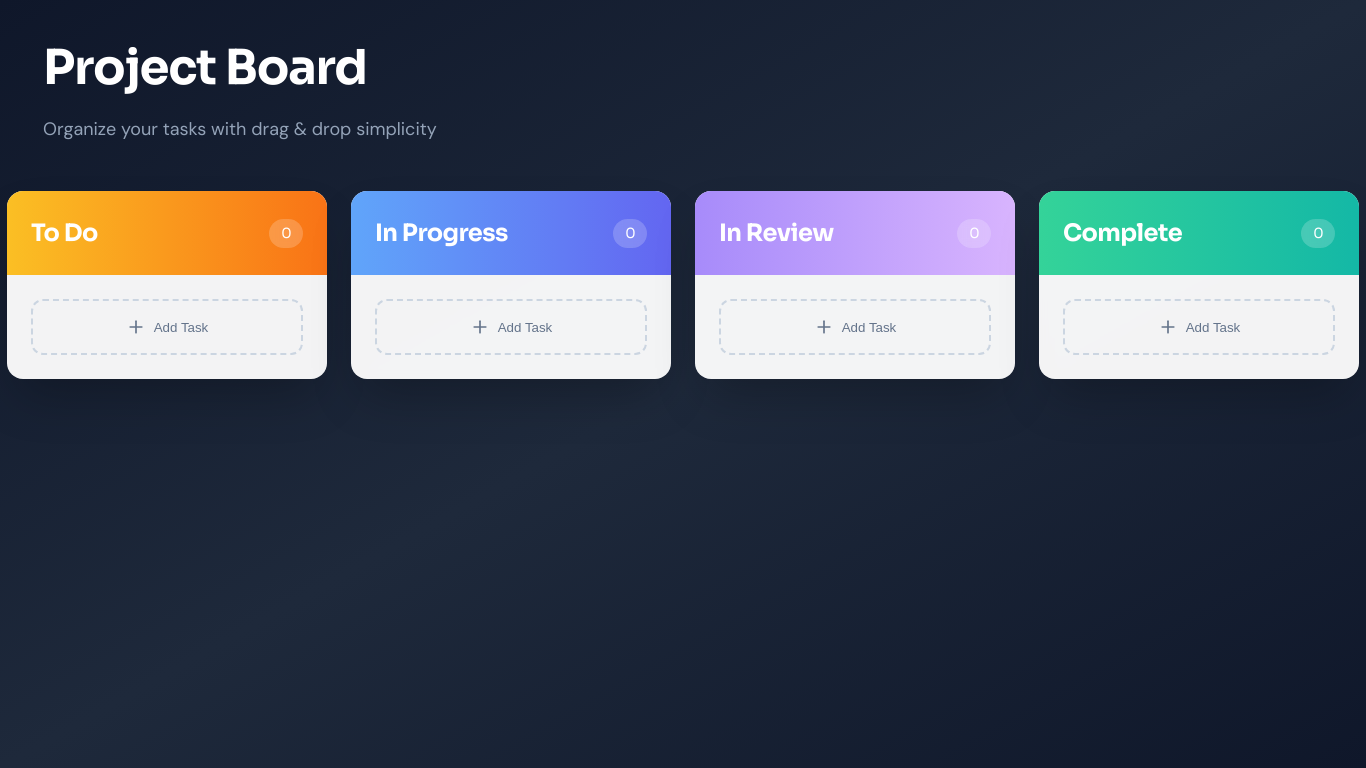
Scenario: App › Adding Tasks › can add multiple tasks
Note: Add first task
Click the button "Add Task" below "To Do" at x=167, y=327, box [31,299,303,355]
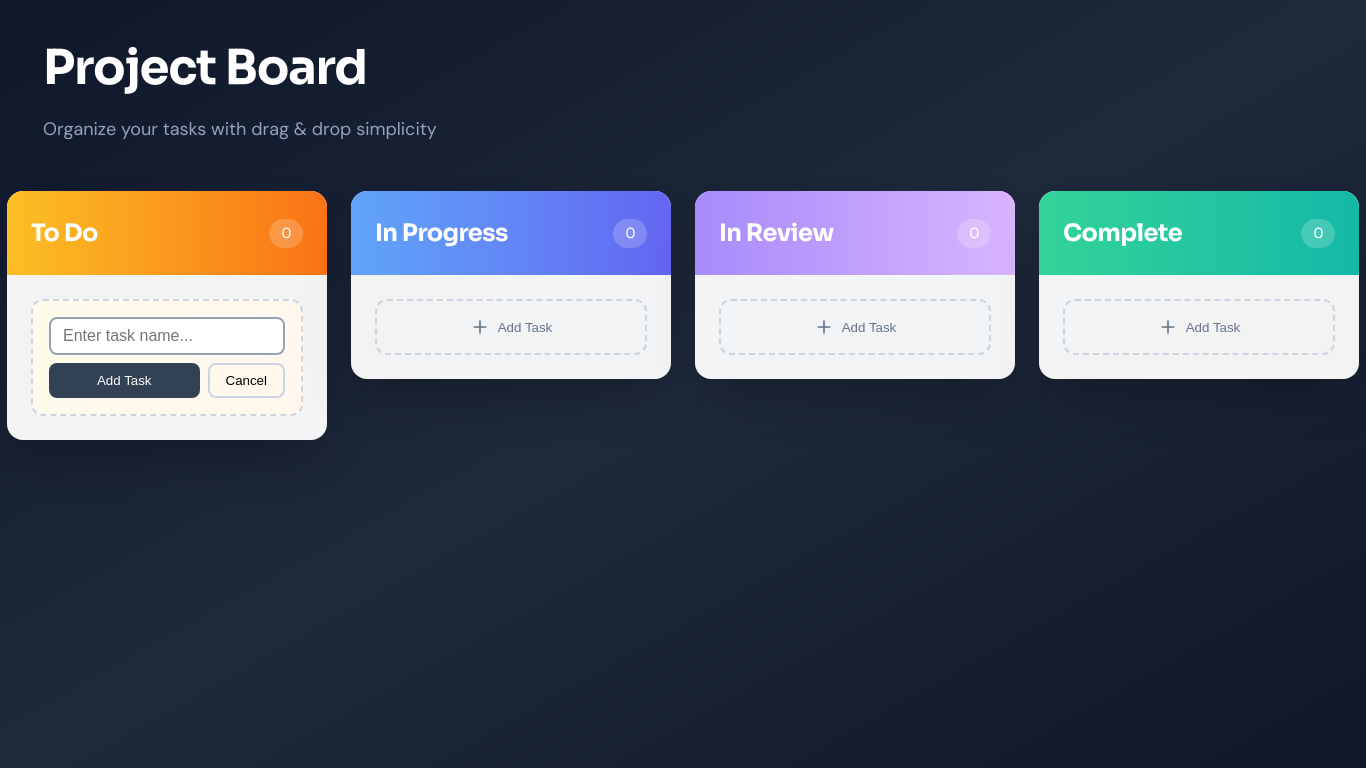
Type "Task 1" into the field with placeholder "Enter task name..." at x=167, y=336, box [49,317,285,355]
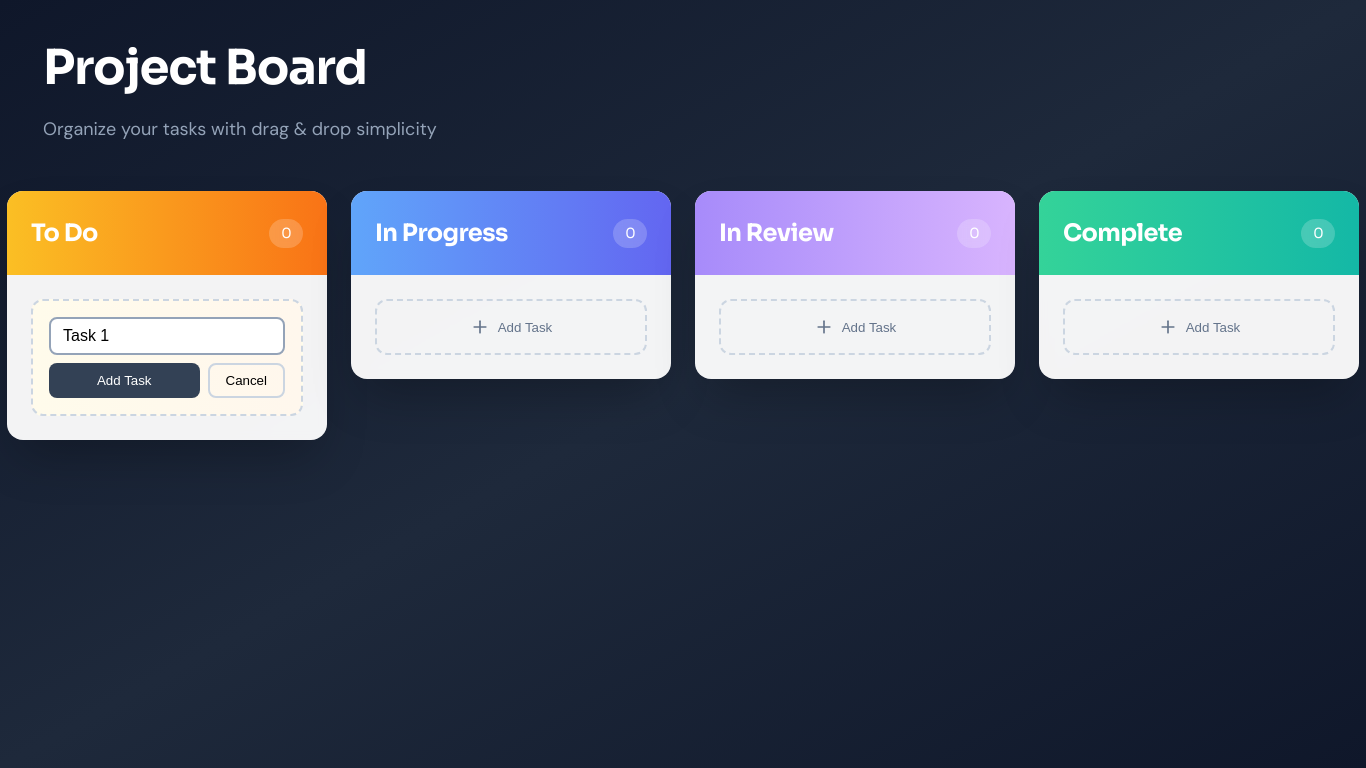
Press Enter in the field with placeholder "Enter task name...", box [49,317,285,355]
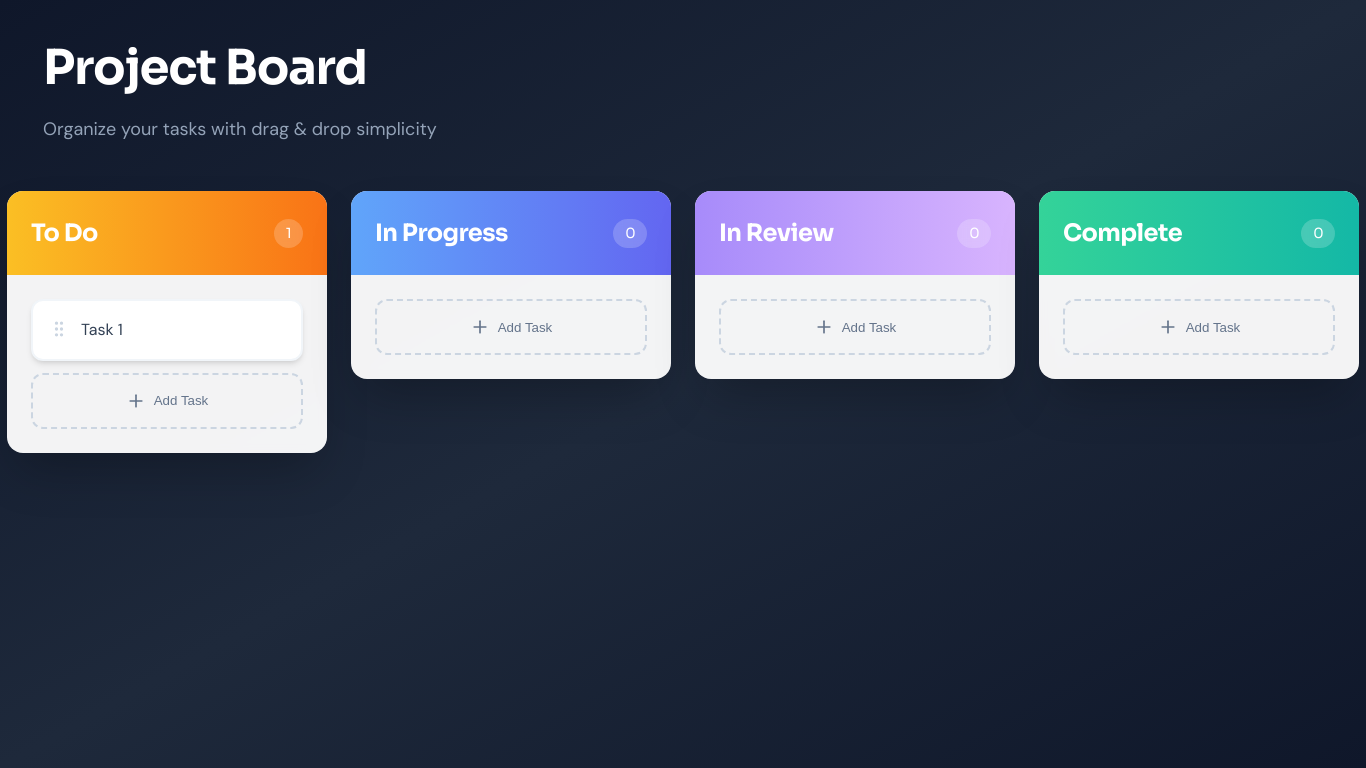
Note: Add second task
Click the button "Add Task" below "Task 1" at x=167, y=401, box [31,373,303,429]
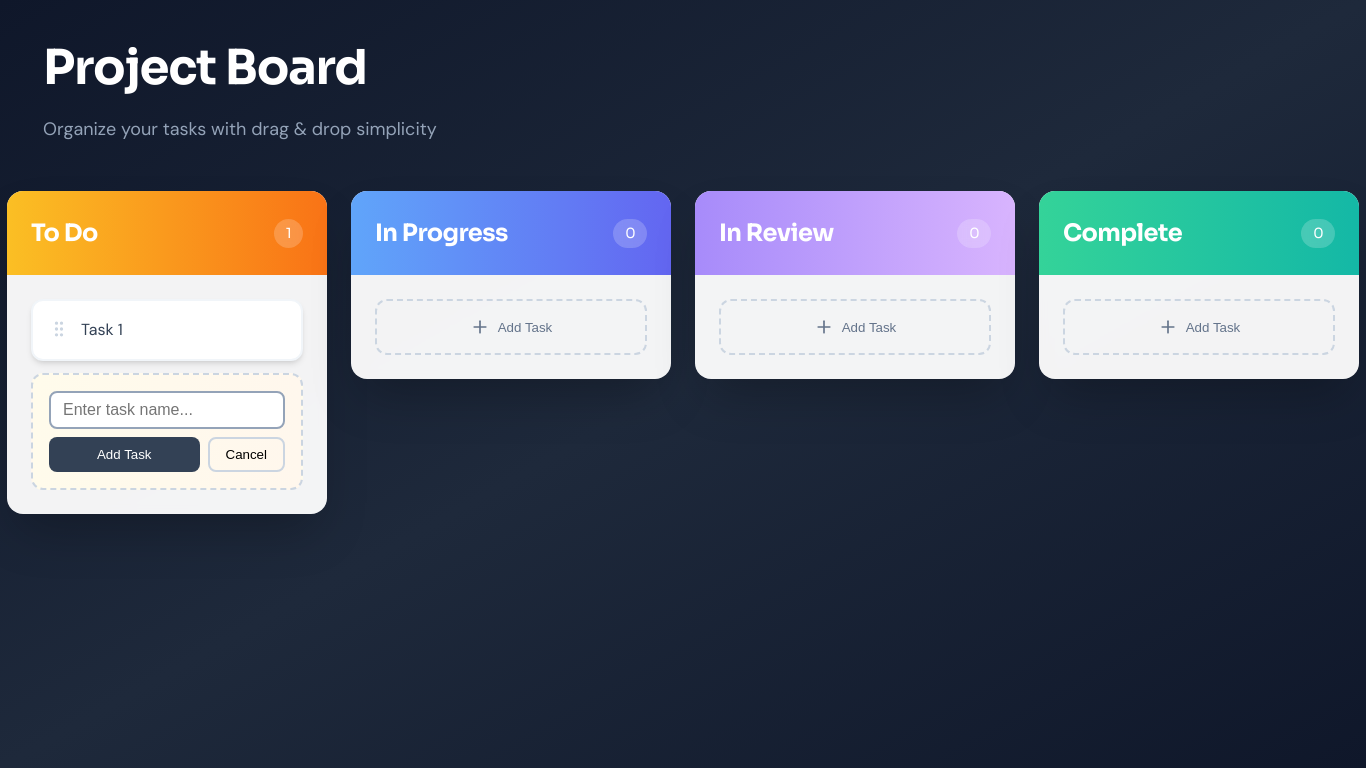
Type "Task 2" into the field with placeholder "Enter task name..." at x=167, y=410, box [49,391,285,429]
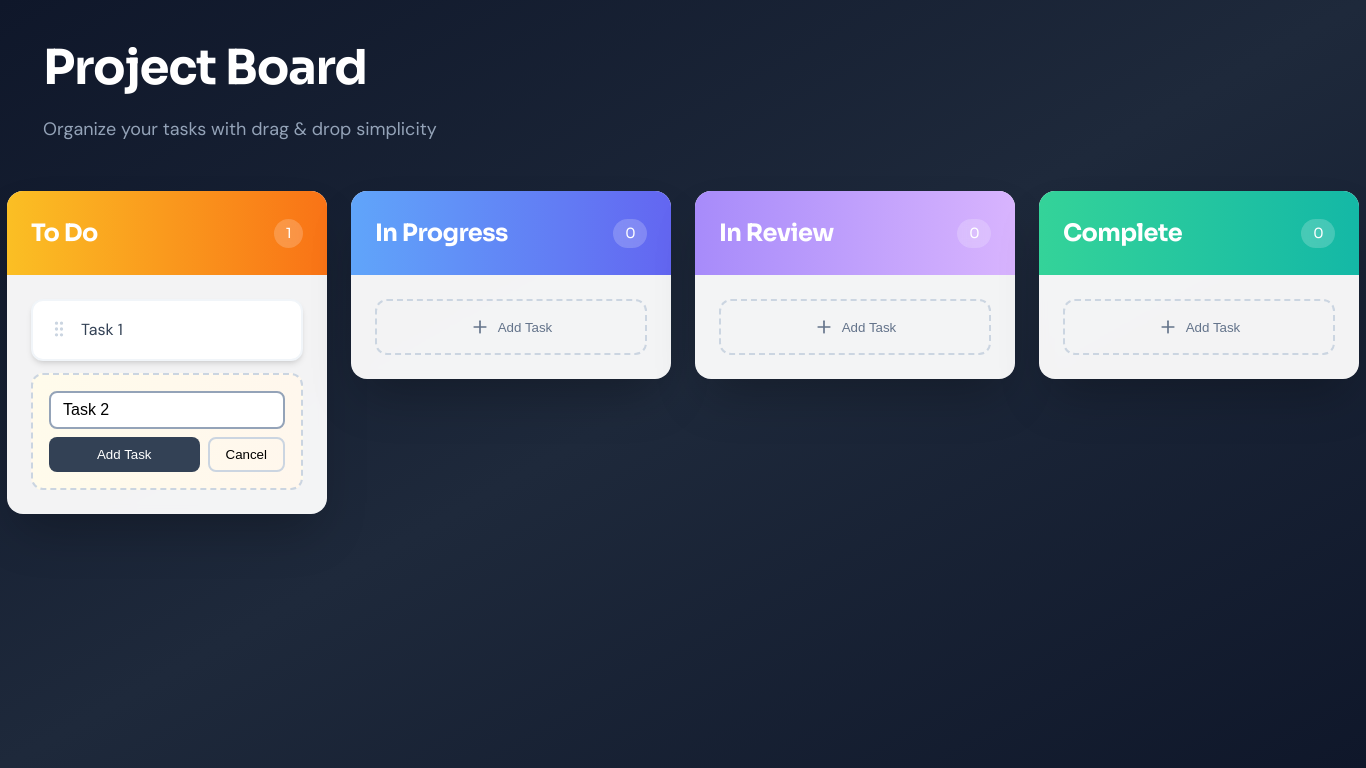
Press Enter in the field with placeholder "Enter task name...", box [49,391,285,429]
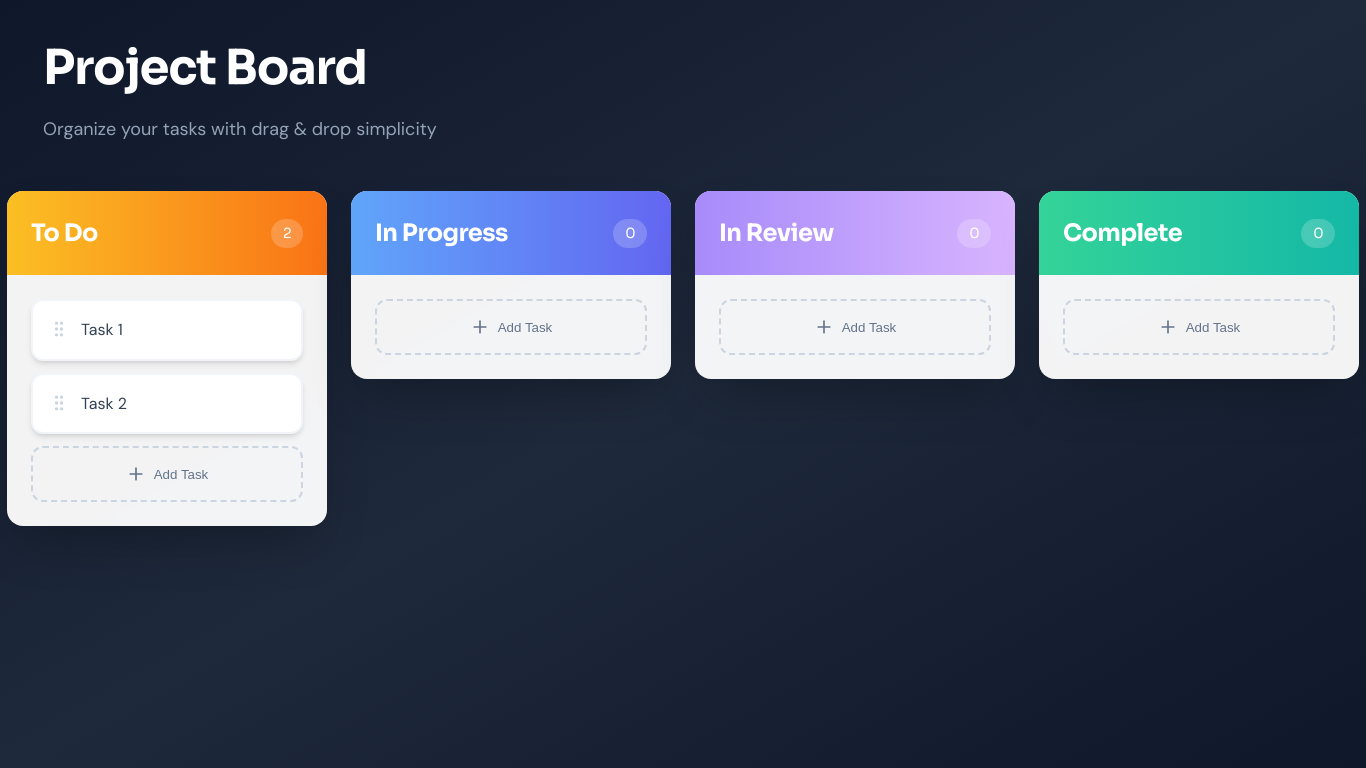
Expected: the text "2" is shown, [271,218,303,248]
Expected: the text "Task 1" is shown, [81,319,123,340]
Expected: the text "Task 2" is shown, [81,393,127,414]
